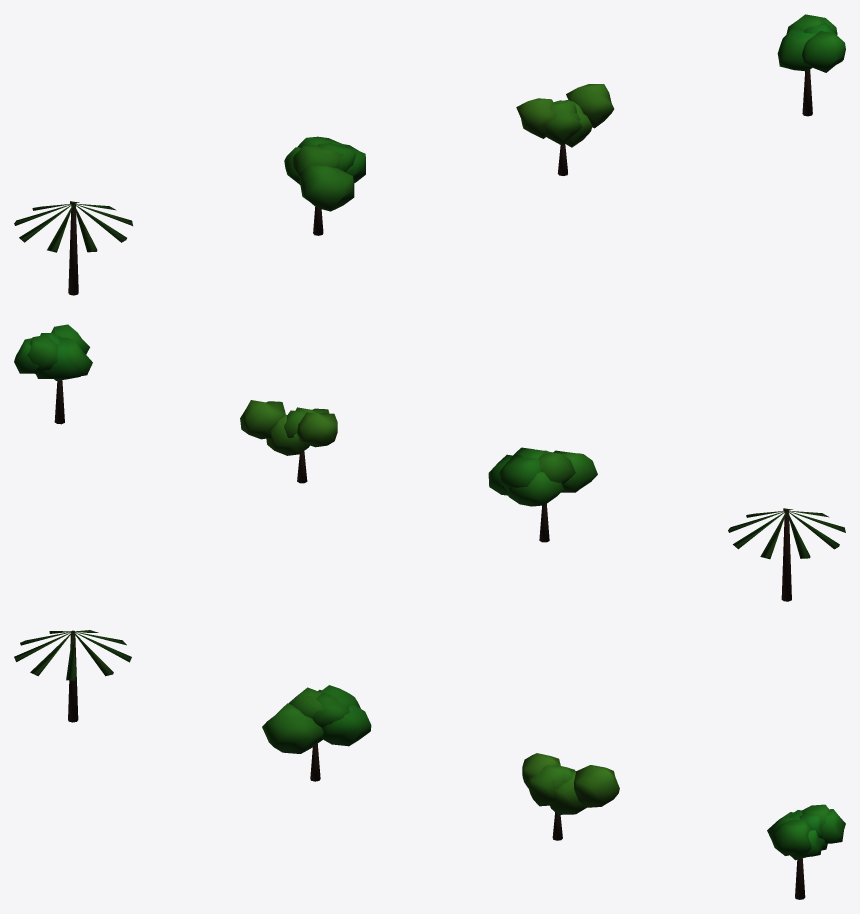
The model's file is trees.glb.
3 renders of one model, top to bottom at view 1: azimuth 30°, elevation 25°; view 2: azimuth 150°, elevation 25°; view 3: azimuth 330°, elevation 25°, orthographic.
Visible parts, largest first — view 1: tree_a, tree_b, tree_c, palm; view 2: tree_a, tree_b, tree_c, palm; view 3: tree_a, tree_b, tree_c, palm.
Part boxes in pixels (bbox=[...]): tree_a: bbox=[284, 136, 365, 235]; tree_b: bbox=[516, 84, 614, 175]; tree_c: bbox=[777, 14, 845, 116]; palm: bbox=[14, 201, 132, 295]; tree_a: bbox=[488, 447, 597, 542]; tree_b: bbox=[240, 400, 337, 483]; tree_c: bbox=[14, 324, 92, 424]; palm: bbox=[728, 508, 845, 601]; tree_a: bbox=[262, 685, 371, 781]; tree_b: bbox=[522, 753, 619, 840]; tree_c: bbox=[767, 804, 845, 899]; palm: bbox=[14, 630, 131, 722].
Size of the model in its own units: 67.09 by 7 by 8.46.
